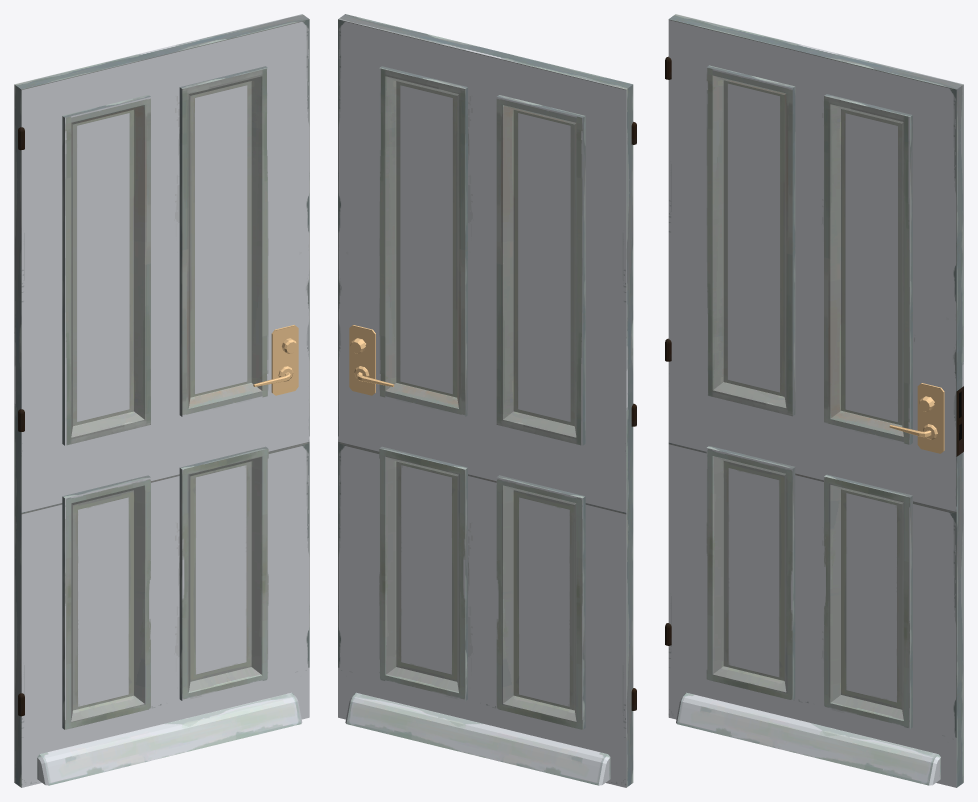
Rendered from PuertaA_Fachada.obj.
3 views of the same model, side by side, from view 1: azimuth 30°, elevation 25°; view 2: azimuth 150°, elevation 25°; view 3: azimuth 330°, elevation 25° (orthographic).
Visible parts, largest first — view 1: PuertaA_Fachada; view 2: PuertaA_Fachada; view 3: PuertaA_Fachada.
Part boxes in pixels (<box>): PuertaA_Fachada: <box>14,14,309,787</box>; PuertaA_Fachada: <box>338,14,636,787</box>; PuertaA_Fachada: <box>665,14,963,787</box>.
Size of the model in its own units: 0.93 by 2.13 by 0.1468.
Materials: 2 (2 with a texture image).
